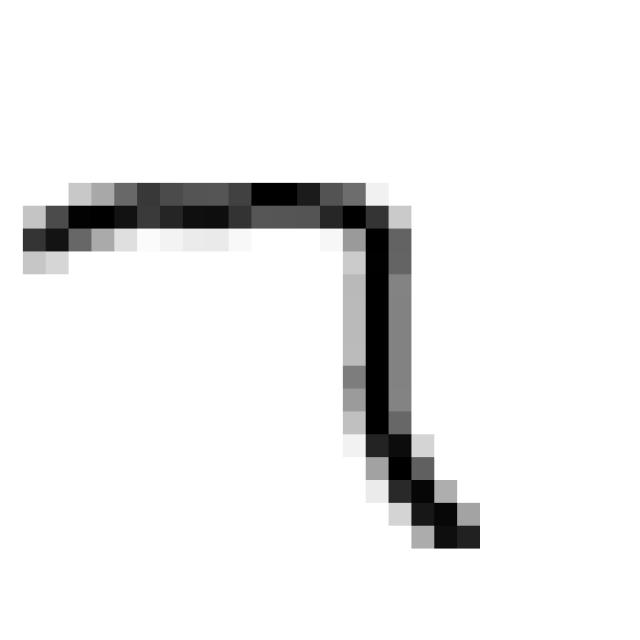6 -six-: (11, 158, 502, 570)
